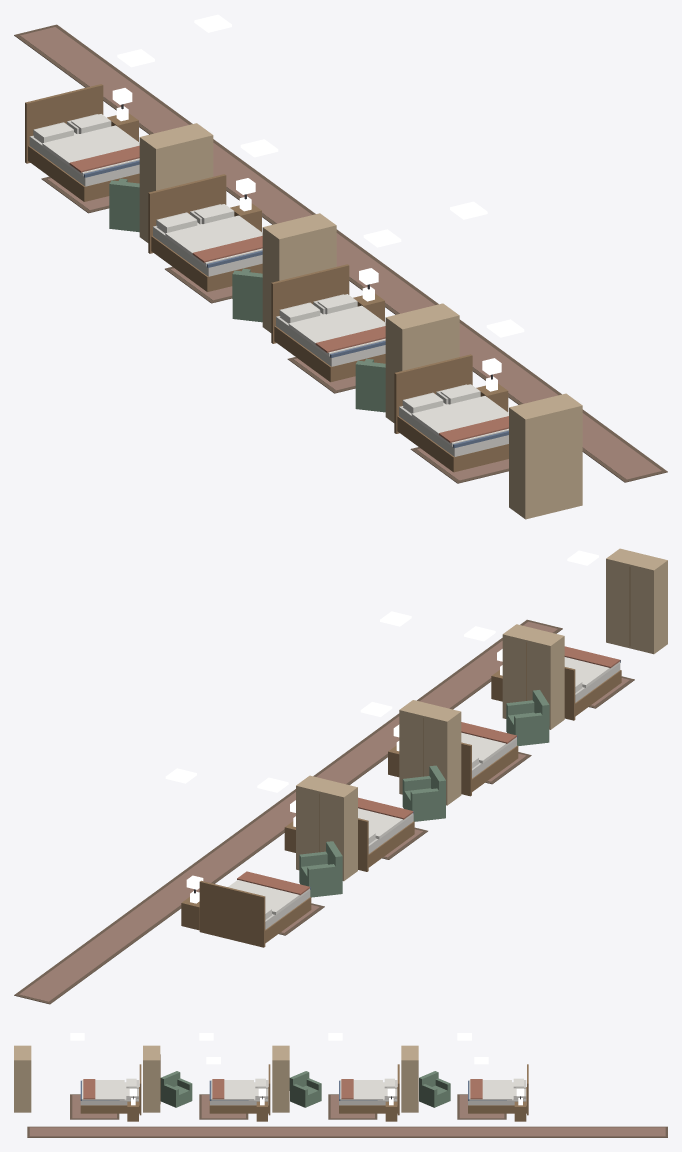
Rendered from fine-s1.glb.
The picture shows the model from 3 angles, top to bottom: view 1: azimuth 30°, elevation 25°; view 2: azimuth 150°, elevation 25°; view 3: azimuth 270°, elevation 25°; orthographic projection. The views are drawn at different scales.
Visible parts, largest first — view 1: soft-s1, dresser.003, bed-frame.003, bed-frame.002, bed-frame.001, bed-frame.000, dresser.002, dresser.001, dresser.000, lounge-chair.000, lounge-chair.001, lounge-chair.002; view 2: soft-s1, dresser.003, dresser.002, dresser.001, dresser.000, bed-frame.000, lounge-chair.002, lounge-chair.000, lounge-chair.001, bed-frame.003, bed-frame.002, bed-frame.001; view 3: soft-s1, dresser.000, dresser.001, dresser.002, dresser.003, bed-frame.002, bed-frame.003, lounge-chair.002, lounge-chair.001, bed-frame.001, lounge-chair.000, bed-frame.000 (+4 smaller).
Part boxes in pixels (x1,y1,x2,y2): soft-s1: (14,24,667,483); dresser.003: (509,393,582,519); bed-frame.003: (394,354,508,472); bed-frame.002: (271,264,385,382); bed-frame.001: (148,174,262,291); bed-frame.000: (25,84,139,201); dresser.002: (385,303,459,422); dresser.001: (262,213,336,332); dresser.000: (139,123,213,242); lounge-chair.000: (109,178,139,232); lounge-chair.001: (232,268,262,322); lounge-chair.002: (355,358,385,412); soft-s1: (14,619,634,1004); dresser.003: (606,548,667,654); dresser.002: (502,624,564,729); dresser.001: (399,700,461,805); dresser.000: (296,775,357,881); bed-frame.000: (199,880,311,947); lounge-chair.002: (506,690,549,745); lounge-chair.000: (299,841,342,897); lounge-chair.001: (402,765,445,821); bed-frame.003: (564,660,621,720); bed-frame.002: (461,735,518,796); bed-frame.001: (358,811,414,871); soft-s1: (27,1078,667,1137); dresser.000: (401,1045,418,1112); dresser.001: (272,1045,289,1112); dresser.002: (143,1045,160,1112); dresser.003: (14,1045,31,1112); bed-frame.002: (209,1064,270,1115); bed-frame.003: (80,1064,141,1115); lounge-chair.002: (160,1071,192,1107); lounge-chair.001: (289,1071,321,1107); bed-frame.001: (339,1064,399,1115); lounge-chair.000: (419,1071,450,1107); bed-frame.000: (468,1064,528,1115).
Size of the model in its own units: 3.55 by 2.77 by 22.62.
